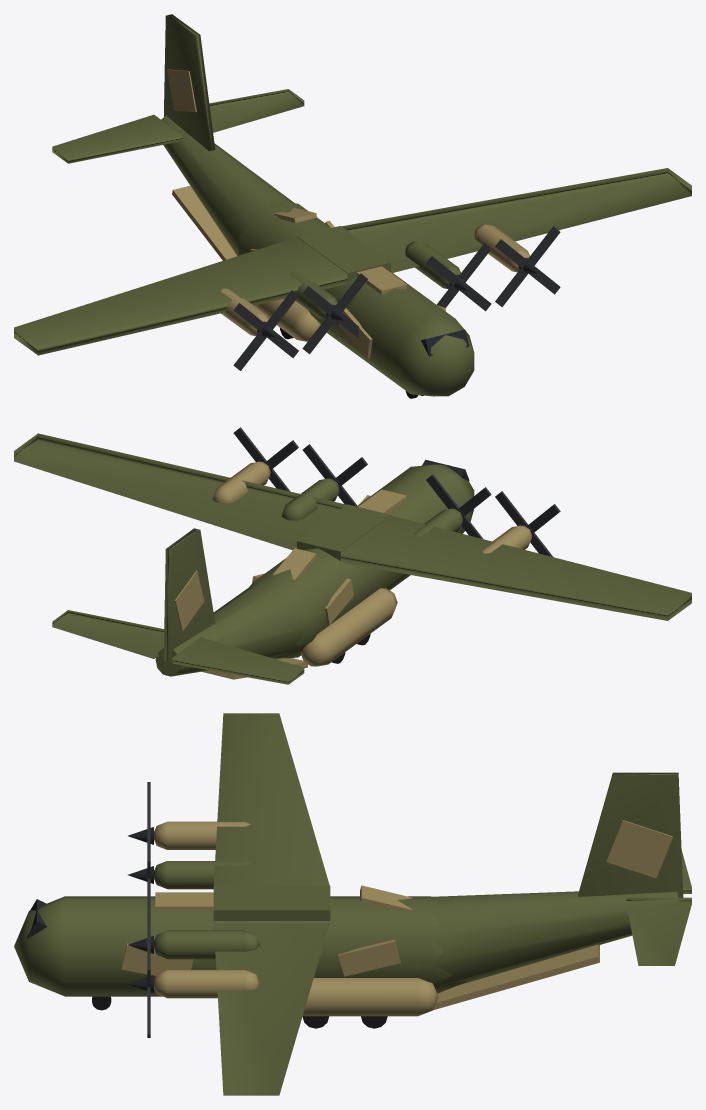
Rendered from c130-hercules.glb.
3 renders of one model, top to bottom at view 1: azimuth 30°, elevation 25°; view 2: azimuth 150°, elevation 25°; view 3: azimuth 270°, elevation 25°, orthographic. The views are drawn at different scales.
Parts seen in each view (by area): view 1: Mesh_MainWingRight, Mesh_MainWingLeft, Mesh_Fuselage, Mesh_TailBoom, Mesh_TailFin, Mesh_TailPlaneRight, Mesh_WingBox, Mesh_TailPlaneLeft, Mesh_CargoRamp, Mesh_SponsonR, Mesh_Nacelle2, Mesh_Nacelle3 (+5 smaller); view 2: Mesh_MainWingRight, Mesh_MainWingLeft, Mesh_Fuselage, Mesh_TailBoom, Mesh_TailFin, Mesh_SponsonR, Mesh_TailPlaneRight, Mesh_TailPlaneLeft, Mesh_WingBox, Mesh_Nacelle3, Mesh_Nacelle2, Mesh_CamoFinR (+7 smaller); view 3: Mesh_Fuselage, Mesh_MainWingRight, Mesh_TailBoom, Mesh_MainWingLeft, Mesh_TailFin, Mesh_SponsonL, Mesh_WingBox, Mesh_TailPlaneLeft, Mesh_CargoRamp, Mesh_Nacelle2, Mesh_Nacelle3, Mesh_CamoFinL (+6 smaller).
Part boxes in pixels (x1,y1,x2,y2): Mesh_MainWingRight: (14, 237, 347, 355); Mesh_MainWingLeft: (342, 168, 691, 272); Mesh_Fuselage: (236, 201, 474, 396); Mesh_TailBoom: (161, 115, 295, 255); Mesh_TailFin: (164, 14, 215, 151); Mesh_TailPlaneRight: (52, 114, 182, 163); Mesh_WingBox: (297, 226, 390, 282); Mesh_TailPlaneLeft: (209, 89, 304, 132); Mesh_CargoRamp: (172, 186, 236, 260); Mesh_SponsonR: (254, 298, 320, 341); Mesh_Nacelle2: (405, 241, 460, 289); Mesh_Nacelle3: (474, 224, 529, 272); Mesh_MainWingRight: (341, 515, 691, 620); Mesh_MainWingLeft: (14, 433, 346, 550); Mesh_Fuselage: (249, 464, 474, 658); Mesh_TailBoom: (155, 574, 318, 676); Mesh_TailFin: (163, 528, 215, 662); Mesh_SponsonR: (300, 588, 397, 666); Mesh_TailPlaneRight: (172, 637, 304, 684); Mesh_TailPlaneLeft: (52, 610, 164, 658); Mesh_WingBox: (297, 504, 390, 560); Mesh_Nacelle3: (212, 461, 270, 503); Mesh_Nacelle2: (281, 478, 339, 520); Mesh_CamoFinR: (174, 570, 204, 631); Mesh_Fuselage: (14, 896, 466, 996); Mesh_MainWingRight: (213, 713, 329, 885); Mesh_TailBoom: (408, 891, 679, 985); Mesh_MainWingLeft: (213, 923, 329, 1095); Mesh_TailFin: (578, 772, 683, 897); Mesh_SponsonL: (302, 978, 438, 1016); Mesh_WingBox: (213, 885, 330, 920); Mesh_TailPlaneLeft: (626, 897, 691, 965); Mesh_CargoRamp: (433, 944, 599, 1010); Mesh_Nacelle2: (154, 930, 259, 959); Mesh_Nacelle3: (154, 970, 260, 998); Mesh_CamoFinL: (606, 820, 672, 878).
Bounding box in the file's own units: 36 × 10.5 × 27.85.
